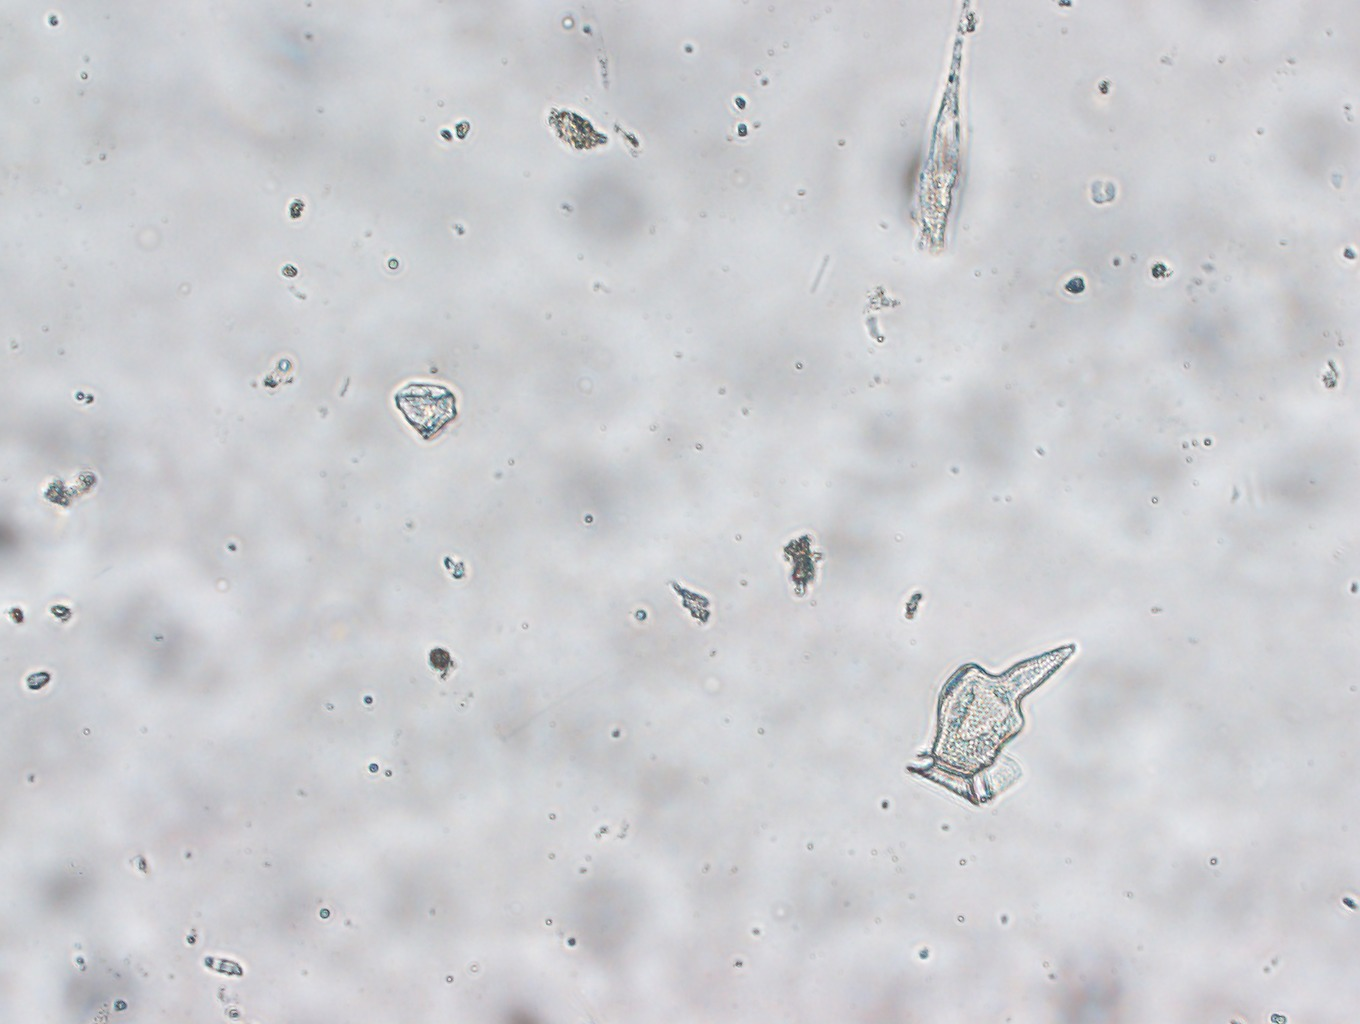dinophysis caudata: (905, 643, 1077, 810)
